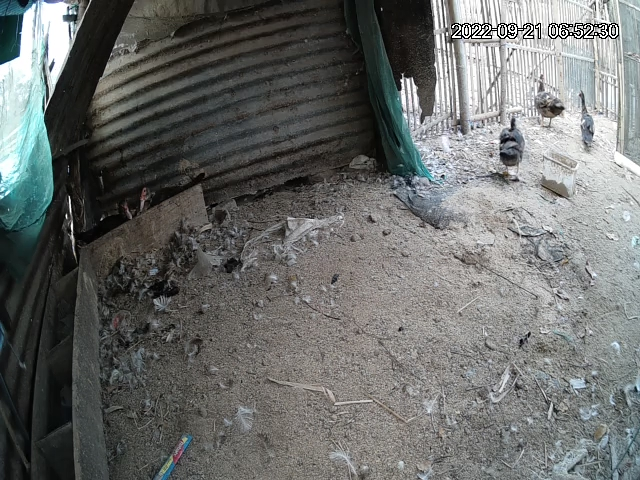Mengeram: (77, 171, 206, 250)
